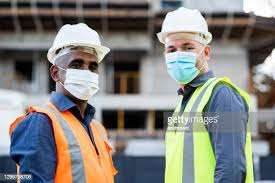Helmet: (47, 25, 109, 58), (155, 8, 213, 43)
Jacket: (158, 88, 241, 183), (23, 107, 114, 183)
Mask: (162, 51, 207, 89), (64, 67, 102, 105)
